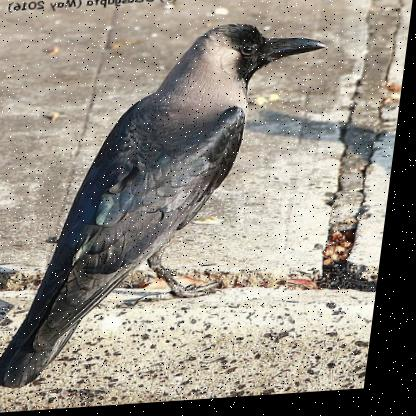Burung: (2, 22, 333, 390)
